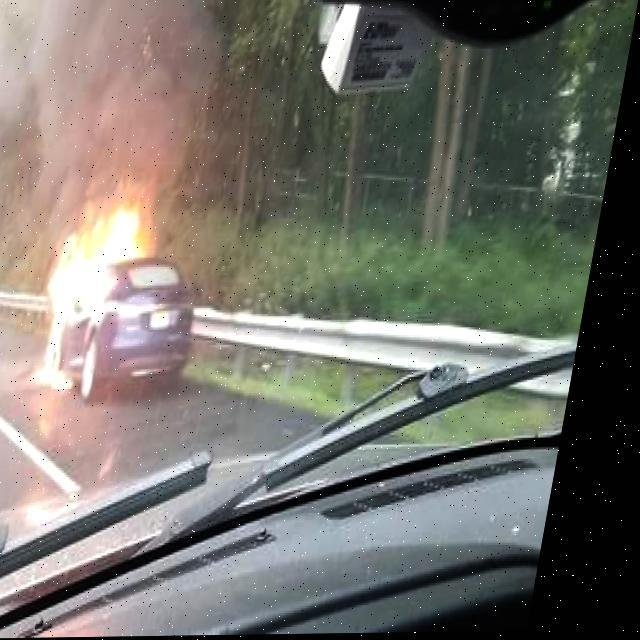Fire: (38, 202, 164, 400)
